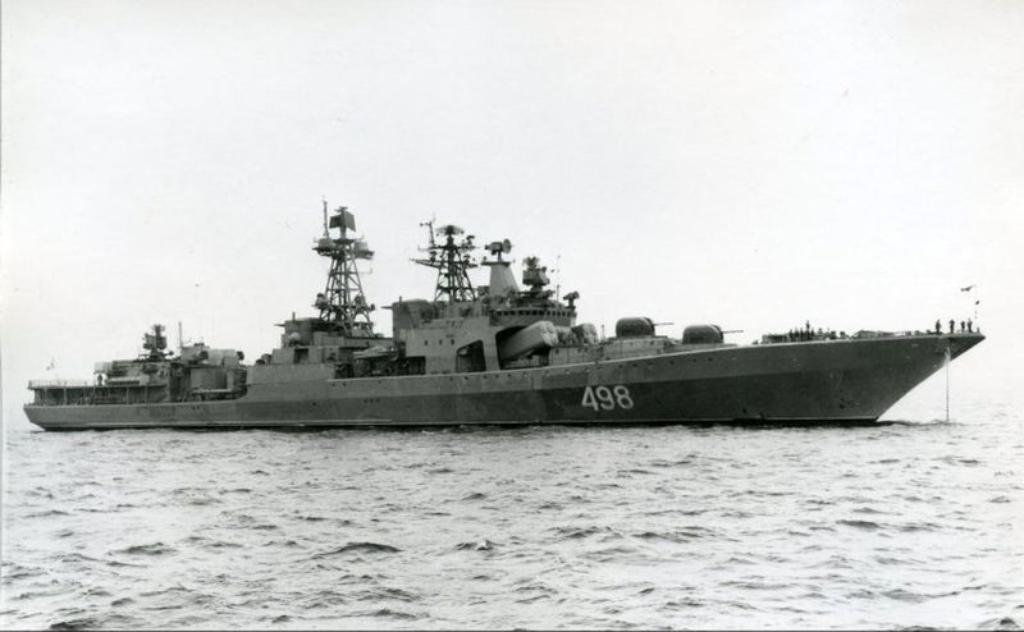Warship: (24, 197, 988, 433)
